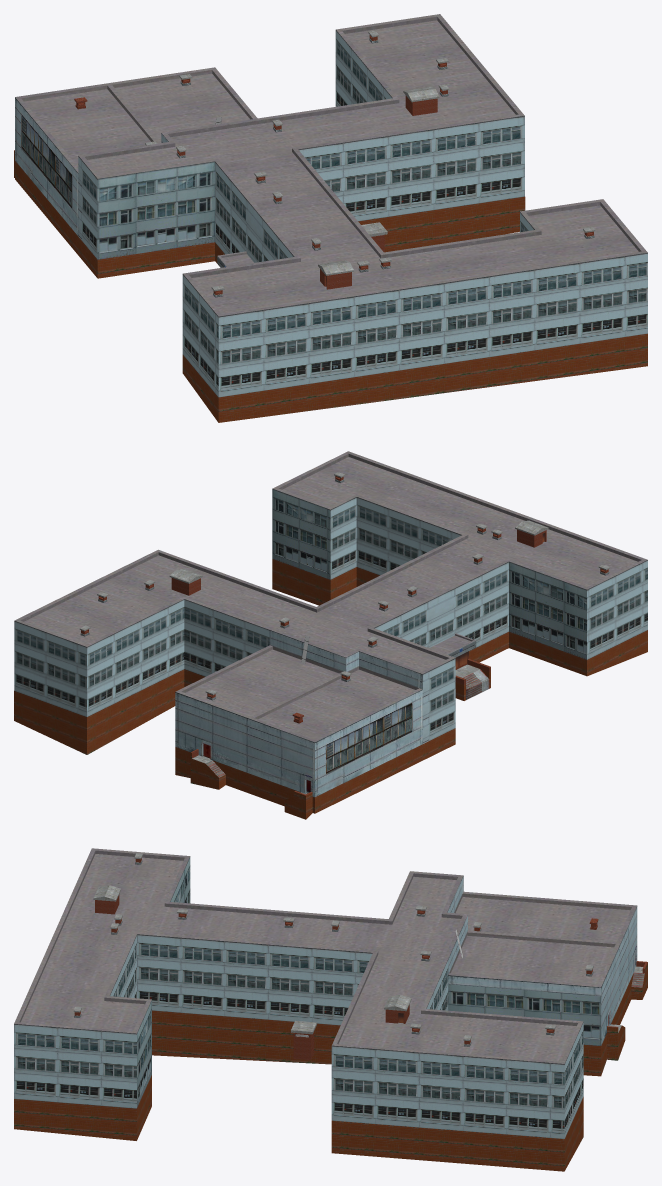
The model's file is Синьковская Школа 1.fbx.
The picture shows the model from 3 angles, top to bottom: view 1: azimuth 30°, elevation 25°; view 2: azimuth 150°, elevation 25°; view 3: azimuth 270°, elevation 25°; orthographic projection. The views are drawn at different scales.
Parts seen in each view (by area): view 1: Синьковская Школа №1.skp; view 2: Синьковская Школа №1.skp; view 3: Синьковская Школа №1.skp.
Boxes of the visible parts, bbox=[...] form: Синьковская Школа №1.skp: bbox=[14, 14, 647, 422]; Синьковская Школа №1.skp: bbox=[14, 451, 647, 819]; Синьковская Школа №1.skp: bbox=[14, 848, 647, 1171].
Bounding box in the file's own units: 67480 × 19635 × 83747.
16 materials, 15 textured.
